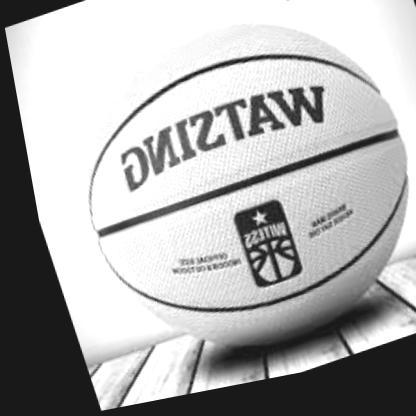basketball: (38, 0, 416, 393)
